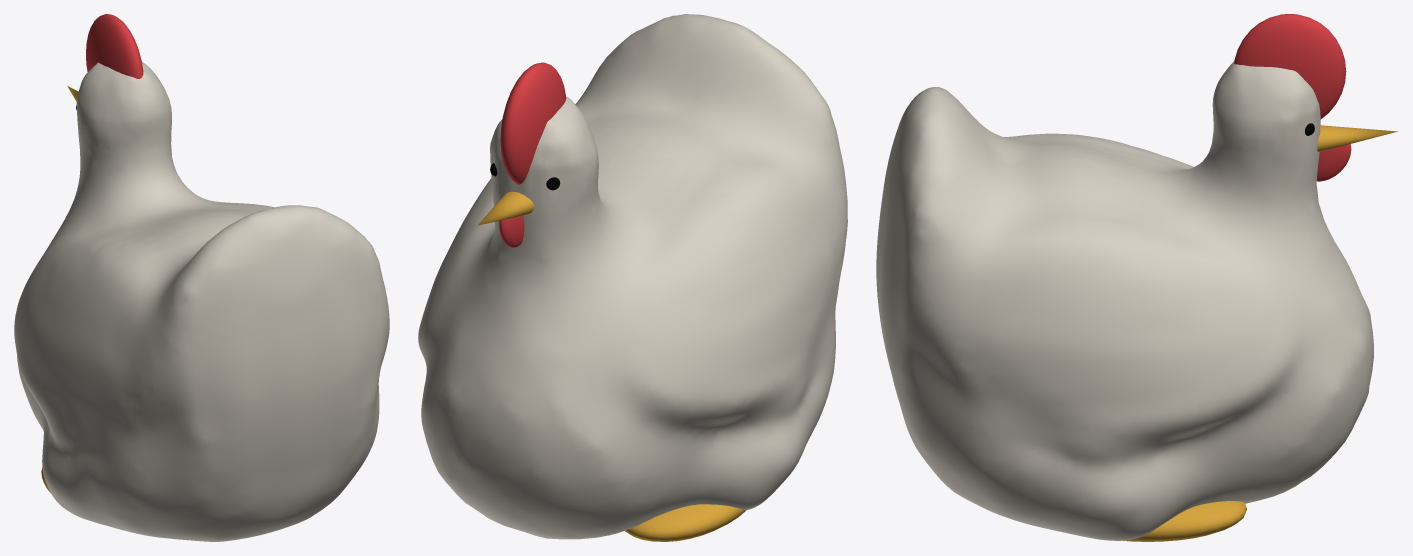
Rendered from chigen.fbx.
3 views of the same model, side by side, from view 1: azimuth 30°, elevation 25°; view 2: azimuth 150°, elevation 25°; view 3: azimuth 270°, elevation 25° (orthographic). The views are drawn at different scales.
Parts seen in each view (by area): view 1: Mball.005, Sphere.004; view 2: Mball.005, Sphere.004, Sphere.005, Cone, Sphere.002; view 3: Mball.005, Sphere.004, Sphere.003, Cone, Sphere.002.
Boxes of the visible parts, <box> form: Mball.005: <box>14,62,389,541</box>; Sphere.004: <box>86,14,143,78</box>; Mball.005: <box>418,14,847,539</box>; Sphere.004: <box>500,62,566,184</box>; Sphere.005: <box>625,504,745,541</box>; Cone: <box>478,191,534,225</box>; Sphere.002: <box>499,215,524,247</box>; Mball.005: <box>876,61,1373,540</box>; Sphere.004: <box>1234,14,1346,119</box>; Sphere.003: <box>1123,501,1246,541</box>; Cone: <box>1317,125,1398,151</box>; Sphere.002: <box>1317,144,1351,181</box>.
Size of the model in its own units: 380 by 533 by 526.
